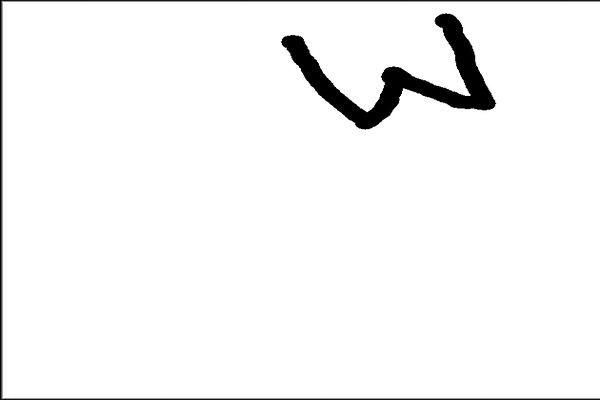w: (258, 10, 518, 177)
